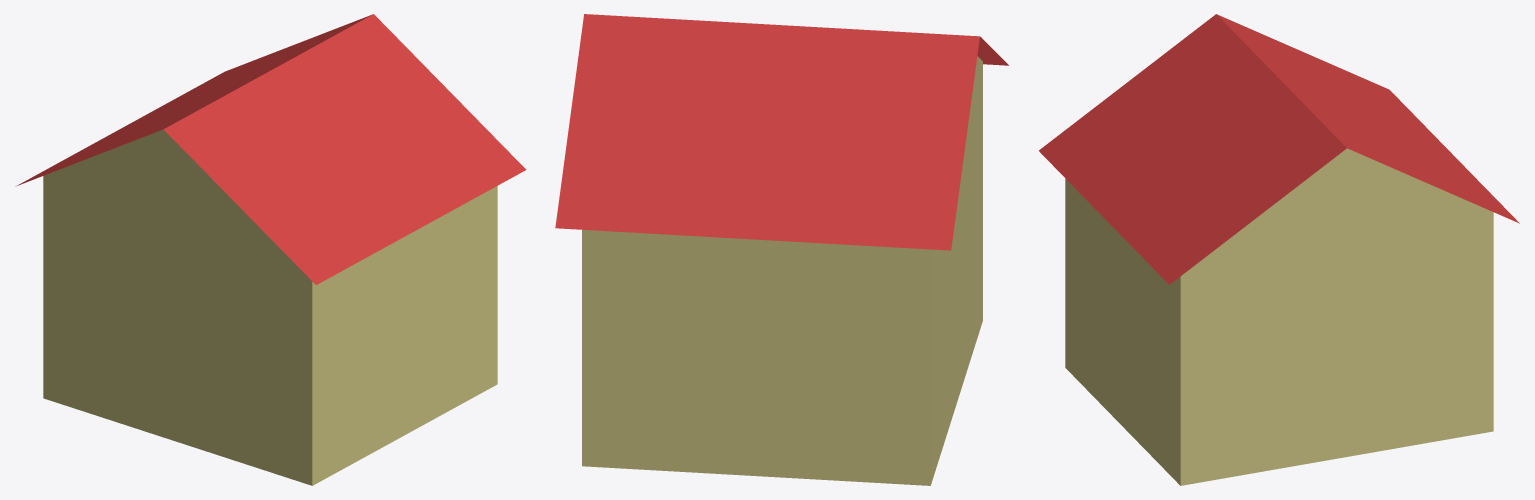
3 views of the same model, side by side, from view 1: azimuth 30°, elevation 25°; view 2: azimuth 150°, elevation 25°; view 3: azimuth 270°, elevation 25° (orthographic). The views are drawn at different scales.
Size of the model in its own units: 16.9 by 17.61 by 12.82.
